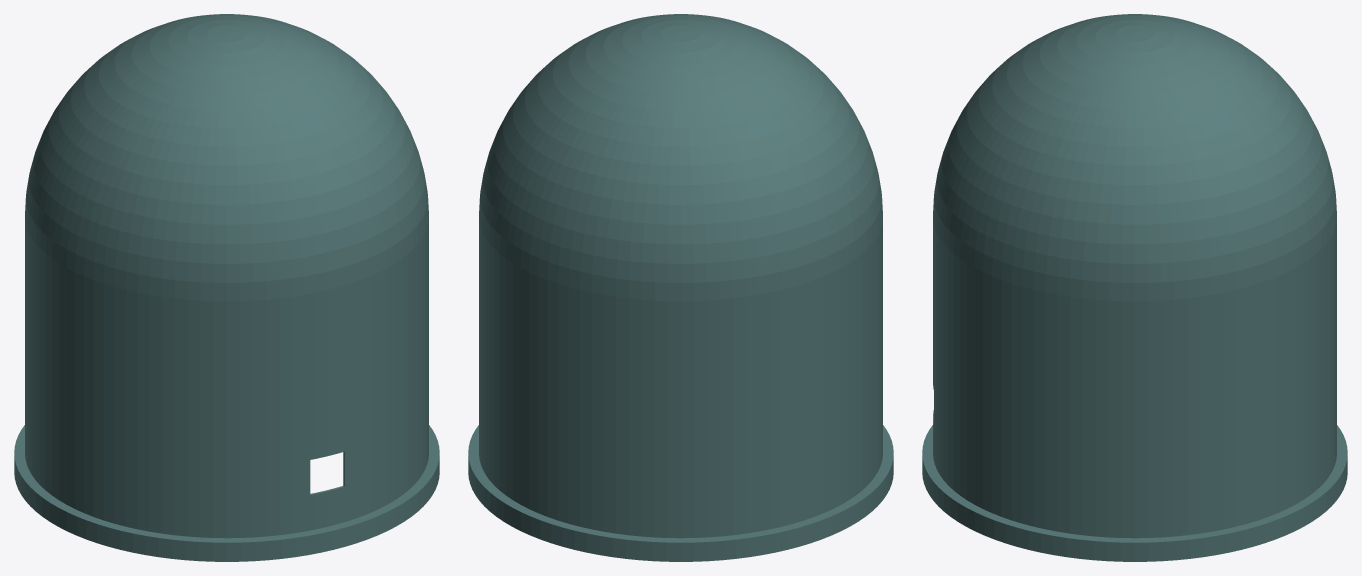
File: ObservationPod_HabitatCollision.fbx
3 renders of one model, left to right at view 1: azimuth 30°, elevation 25°; view 2: azimuth 150°, elevation 25°; view 3: azimuth 270°, elevation 25°, orthographic.
Parts seen in each view (by area): view 1: ObservationPod_CollisionSegment_15, ObservationPod_CollisionSegment_16, ObservationPod_CollisionSegment_14, ObservationPod_CollisionSegment_17, ObservationPod_CollisionSegment_13, ObservationPod_CollisionSegment_18, ObservationPod_CollisionSegment_12, ObservationPod_CollisionSegment_19, ObservationPod_CollisionSegment_11, ObservationPod_CollisionSegment_20, ObservationPod_CollisionSegment_10, ObservationPod_CollisionSegment_21 (+4 smaller); view 2: ObservationPod_CollisionSegment_07, ObservationPod_CollisionSegment_08, ObservationPod_CollisionSegment_06, ObservationPod_CollisionSegment_09, ObservationPod_CollisionSegment_05, ObservationPod_CollisionSegment_10, ObservationPod_CollisionSegment_04, ObservationPod_CollisionSegment_11, ObservationPod_CollisionSegment_03, ObservationPod_CollisionSegment_12, ObservationPod_CollisionSegment_02, ObservationPod_CollisionSegment_13 (+4 smaller); view 3: ObservationPod_CollisionSegment_00, ObservationPod_CollisionSegment_23, ObservationPod_CollisionSegment_01, ObservationPod_CollisionSegment_22, ObservationPod_CollisionSegment_02, ObservationPod_CollisionSegment_21, ObservationPod_CollisionSegment_03, ObservationPod_CollisionSegment_20, ObservationPod_CollisionSegment_04, ObservationPod_CollisionSegment_19, ObservationPod_CollisionSegment_05, ObservationPod_CollisionSegment_18 (+4 smaller).
Part boxes in pixels (x1,y1,x2,y2): ObservationPod_CollisionSegment_15: (172,33,226,561); ObservationPod_CollisionSegment_16: (227,33,281,561); ObservationPod_CollisionSegment_14: (120,33,226,558); ObservationPod_CollisionSegment_17: (227,33,333,558); ObservationPod_CollisionSegment_13: (76,33,225,549); ObservationPod_CollisionSegment_18: (228,33,377,549); ObservationPod_CollisionSegment_12: (42,33,225,535); ObservationPod_CollisionSegment_19: (228,33,411,535); ObservationPod_CollisionSegment_11: (21,33,225,516); ObservationPod_CollisionSegment_20: (228,33,432,516); ObservationPod_CollisionSegment_10: (14,32,225,494); ObservationPod_CollisionSegment_21: (228,32,439,494); ObservationPod_CollisionSegment_07: (626,33,680,561); ObservationPod_CollisionSegment_08: (681,33,735,561); ObservationPod_CollisionSegment_06: (574,33,680,558); ObservationPod_CollisionSegment_09: (681,33,787,558); ObservationPod_CollisionSegment_05: (530,33,679,549); ObservationPod_CollisionSegment_10: (682,33,831,549); ObservationPod_CollisionSegment_04: (496,33,679,535); ObservationPod_CollisionSegment_11: (682,33,865,535); ObservationPod_CollisionSegment_03: (475,33,679,516); ObservationPod_CollisionSegment_12: (682,33,886,516); ObservationPod_CollisionSegment_02: (468,32,679,494); ObservationPod_CollisionSegment_13: (682,32,893,494); ObservationPod_CollisionSegment_00: (1135,33,1189,561); ObservationPod_CollisionSegment_23: (1080,33,1134,561); ObservationPod_CollisionSegment_01: (1135,33,1241,558); ObservationPod_CollisionSegment_22: (1028,33,1134,558); ObservationPod_CollisionSegment_02: (1136,33,1285,549); ObservationPod_CollisionSegment_21: (984,33,1133,549); ObservationPod_CollisionSegment_03: (1136,33,1319,535); ObservationPod_CollisionSegment_20: (950,33,1133,535); ObservationPod_CollisionSegment_04: (1136,33,1340,516); ObservationPod_CollisionSegment_19: (929,33,1133,516); ObservationPod_CollisionSegment_05: (1136,32,1347,494); ObservationPod_CollisionSegment_18: (922,32,1133,494).
Bounding box in the file's own units: 280 × 319 × 280.
